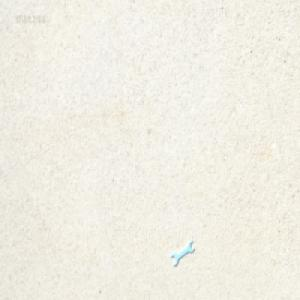Wrench: (171, 237, 195, 264)
